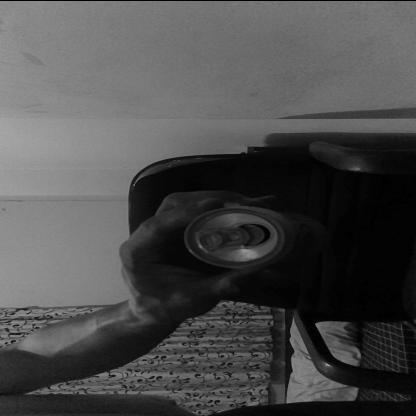plastic_bottles: (178, 204, 286, 268)
